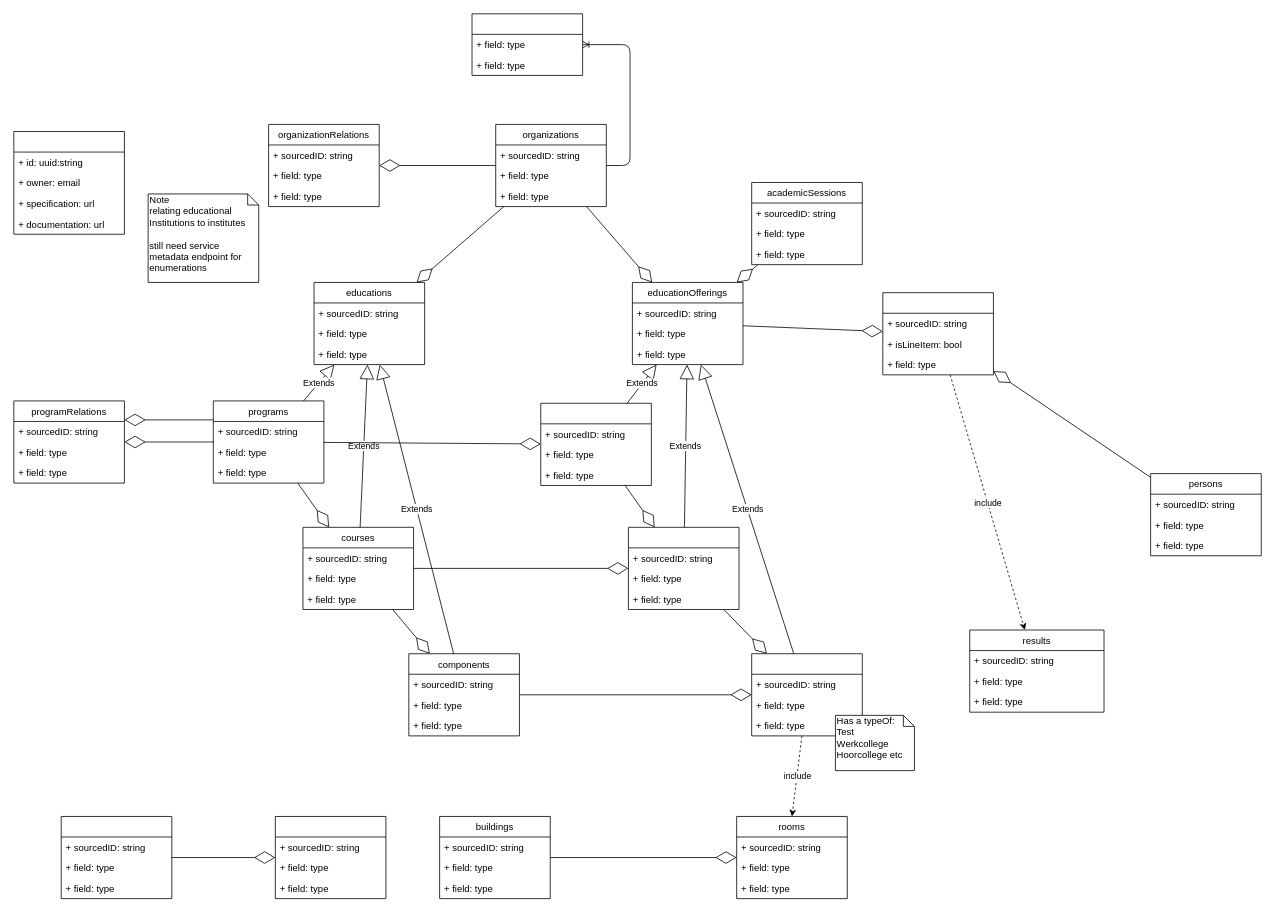
The diagram is 1275 pixels wide and 915 high, and some of its shapes have lost their labels. The box of each missing label's shape, as (x1, y1, x2, y2) in pixels:
Address: (471, 13, 583, 75)
componentOfferings: (751, 653, 862, 736)
courseOfferings: (628, 527, 739, 609)
newsFeeds: (60, 816, 172, 899)
newsItems: (275, 816, 386, 899)
offeringAssociations: (882, 292, 993, 375)
programOfferings: (540, 403, 651, 485)
Service: (13, 131, 124, 234)
